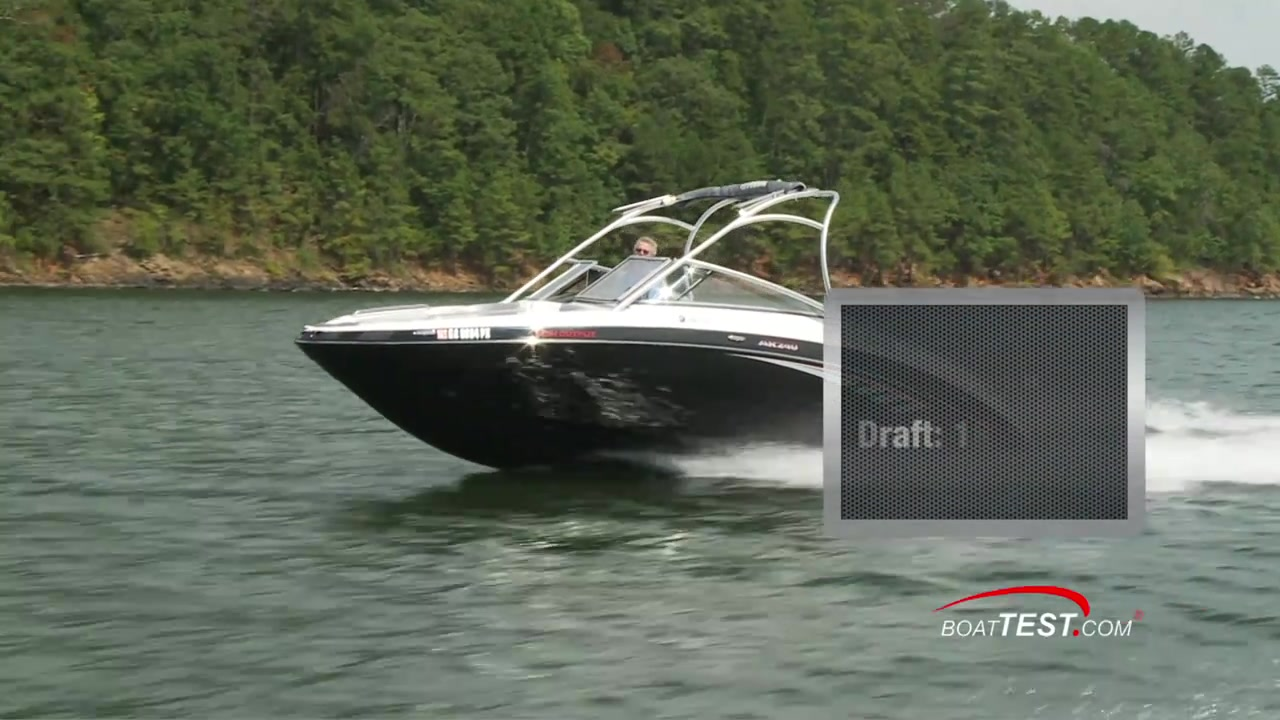boat: (294, 166, 831, 474)
